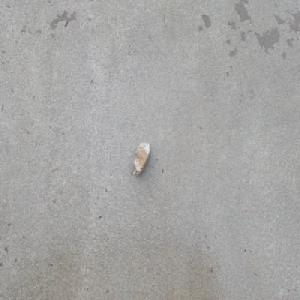Rock: (131, 141, 150, 176)
